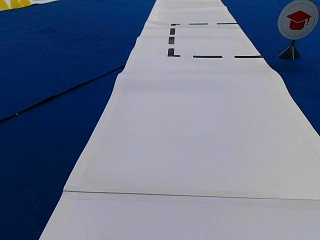school: (278, 1, 317, 38)
